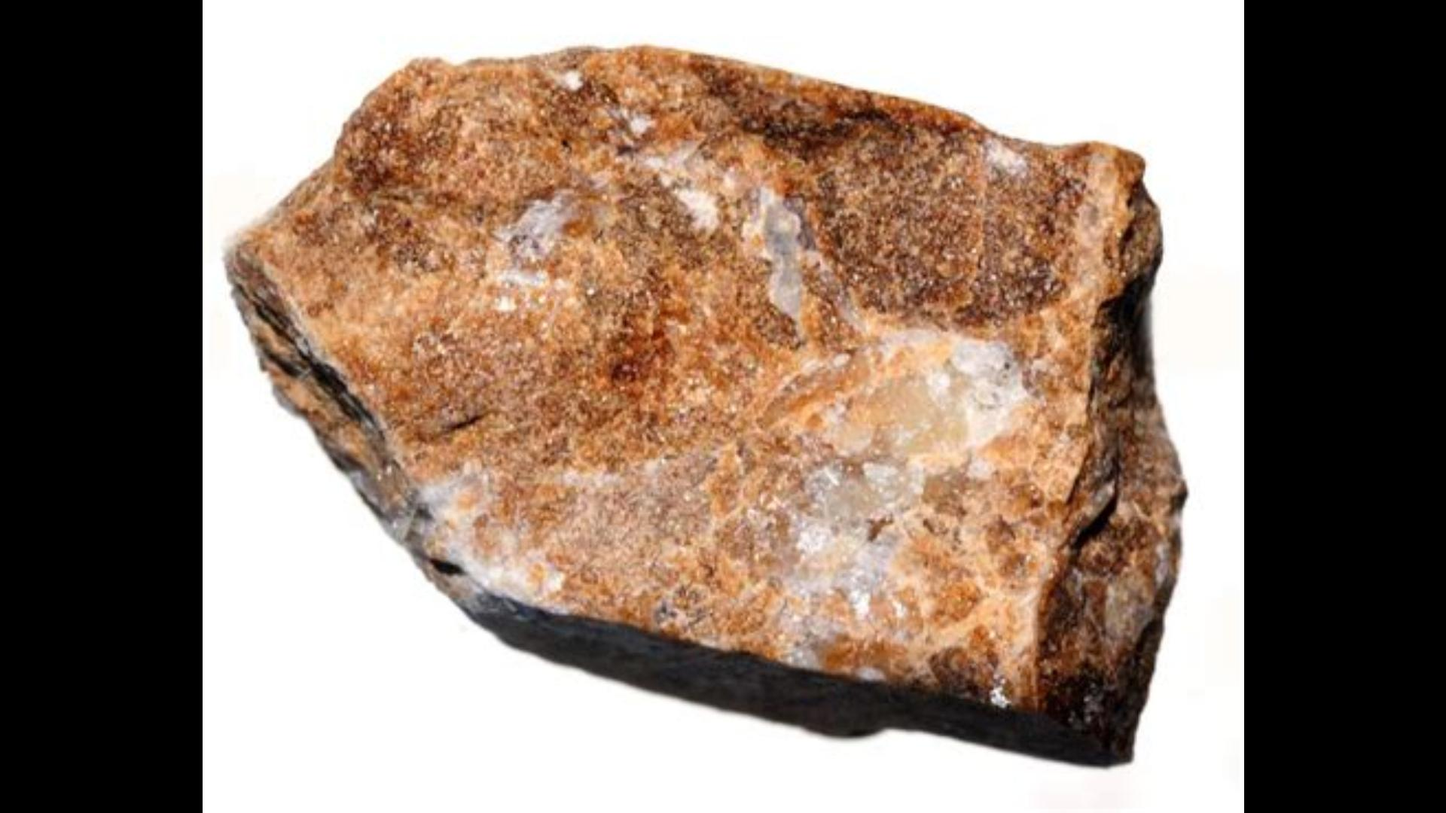rock: (228, 48, 1182, 754)
